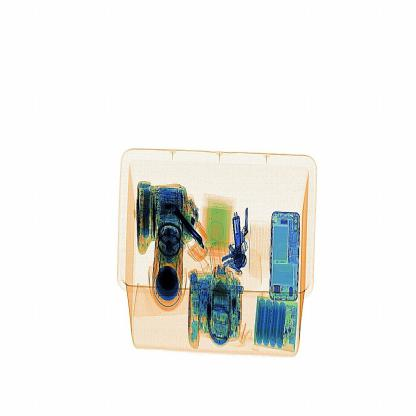knife: (178, 207, 206, 246)
